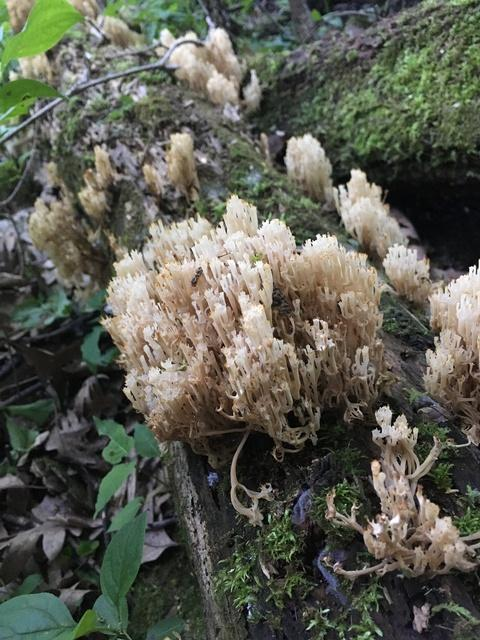edible_mushroom: (98, 192, 390, 450), (322, 404, 477, 583), (421, 260, 479, 446), (154, 25, 261, 108), (34, 185, 96, 276), (282, 132, 334, 204), (162, 126, 210, 194)
